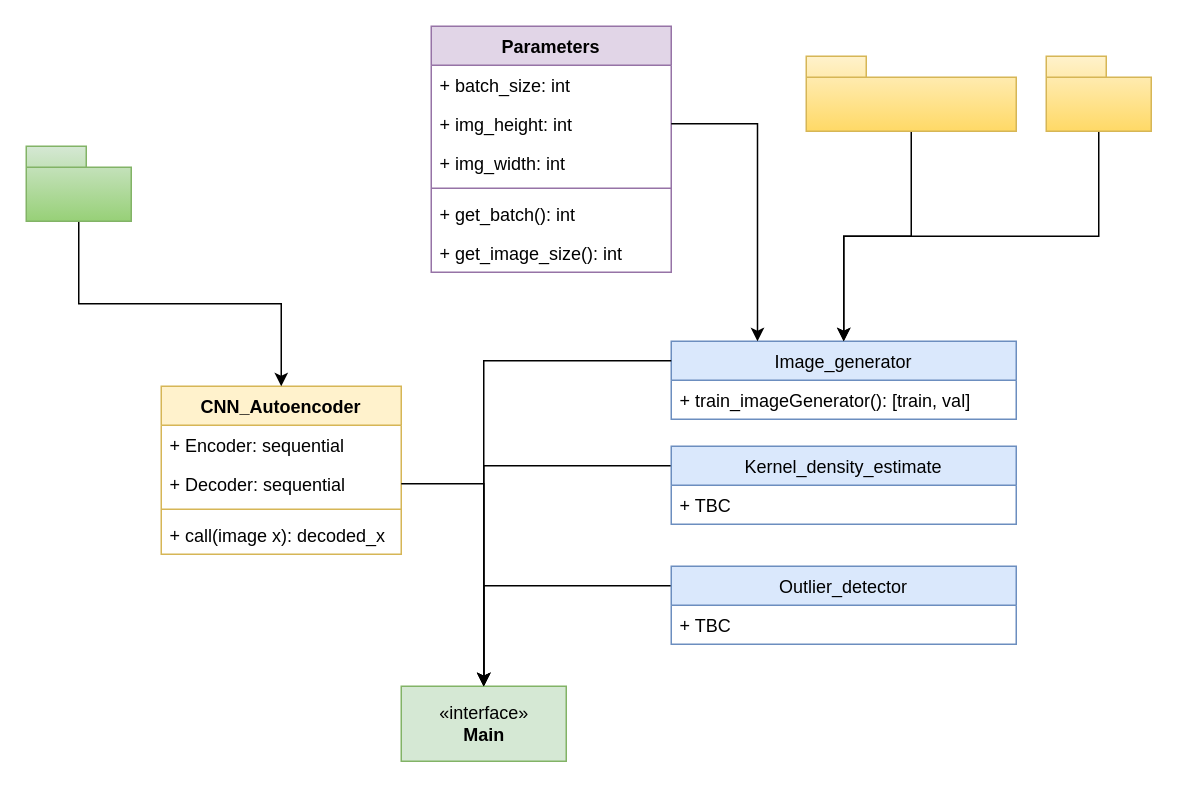
Image size: 1178x788. Some labels were removed from this diagram. Each missing label, with the centre of its shape:
keras ImageDataGenerator: pixel 910 93
os: pixel 1098 93
tensorflow: pixel 78 183
